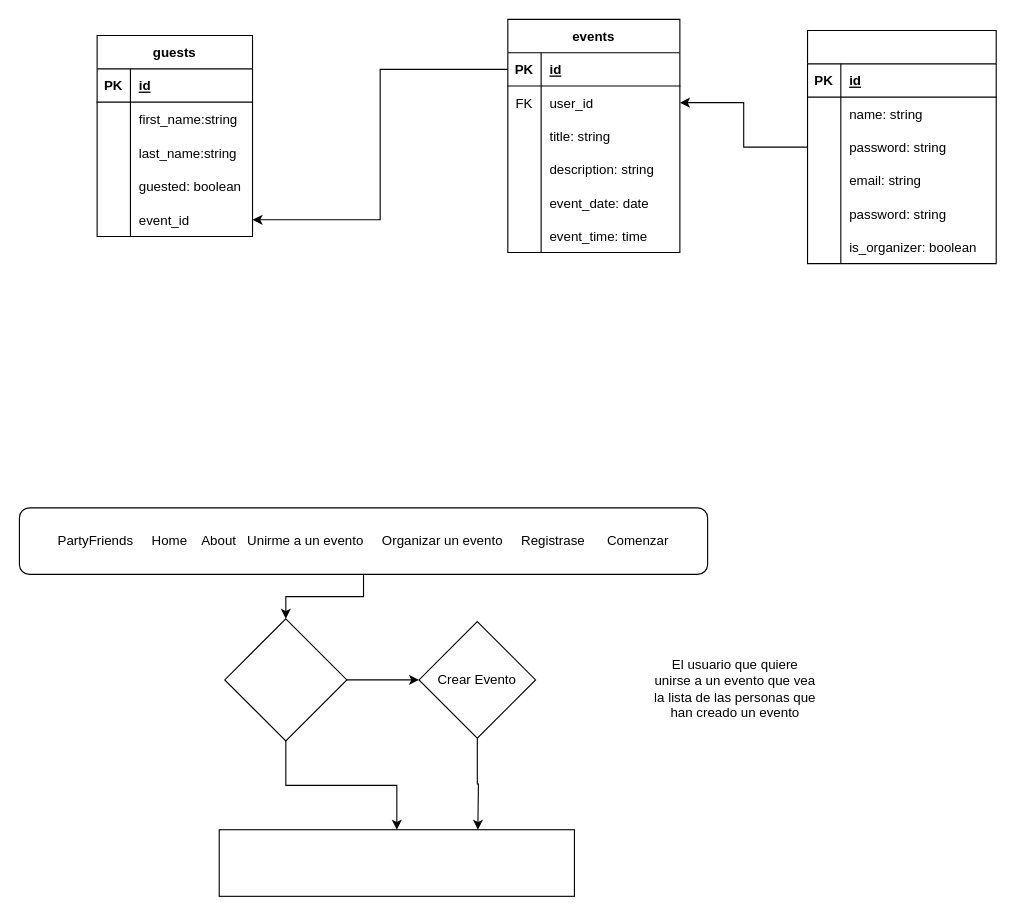
The diagram is 1016 pixels wide and 916 high, and some of its shapes have lost their labels. The shapes that lost their labels are listed below. From the top down, each one's box as (x1, y1, x2, y2) in pixels, then its label:
(806, 29, 996, 264): Users
(224, 618, 347, 741): ¿Unirme a un evento?
